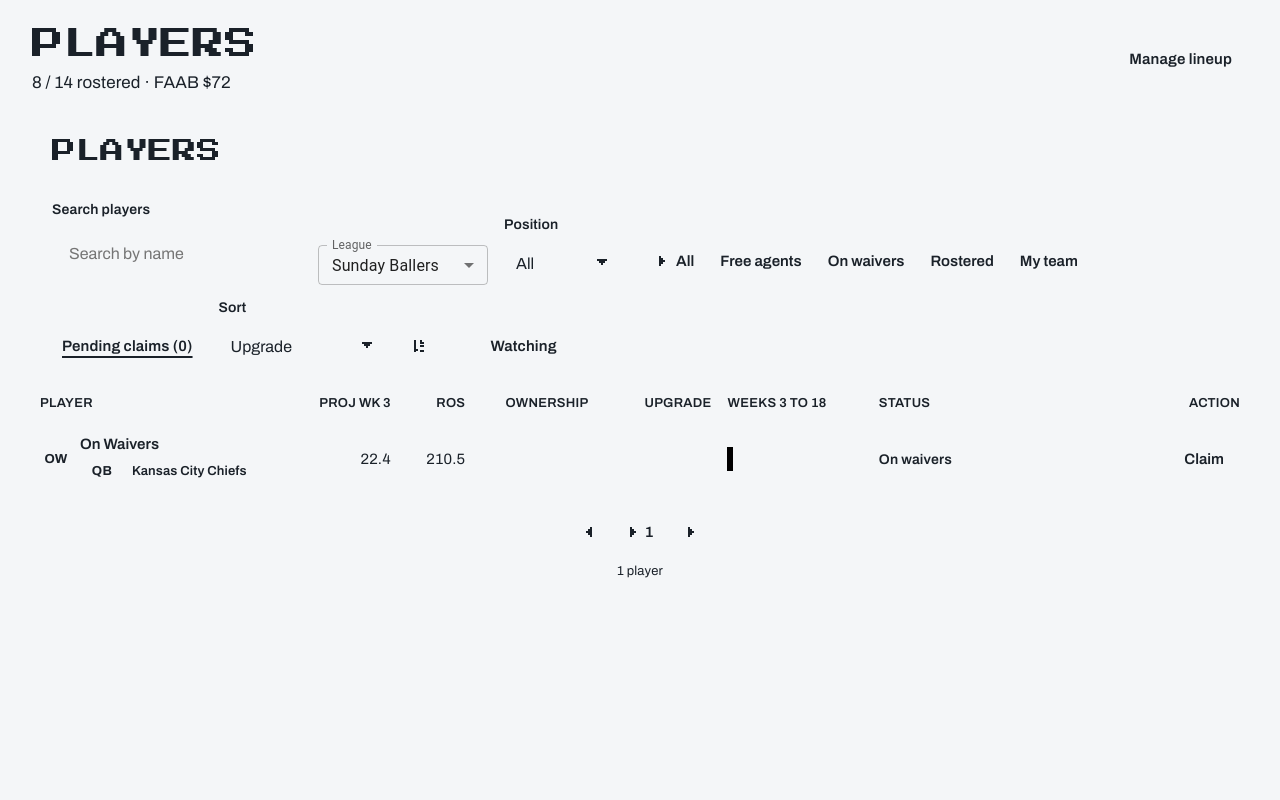
Test: FAAB league: the row's Claim opens the Decision card claim action and does not post a claim (#1576)
Click the button "Claim" at x=1204, y=459, box [1168,437,1240,481]
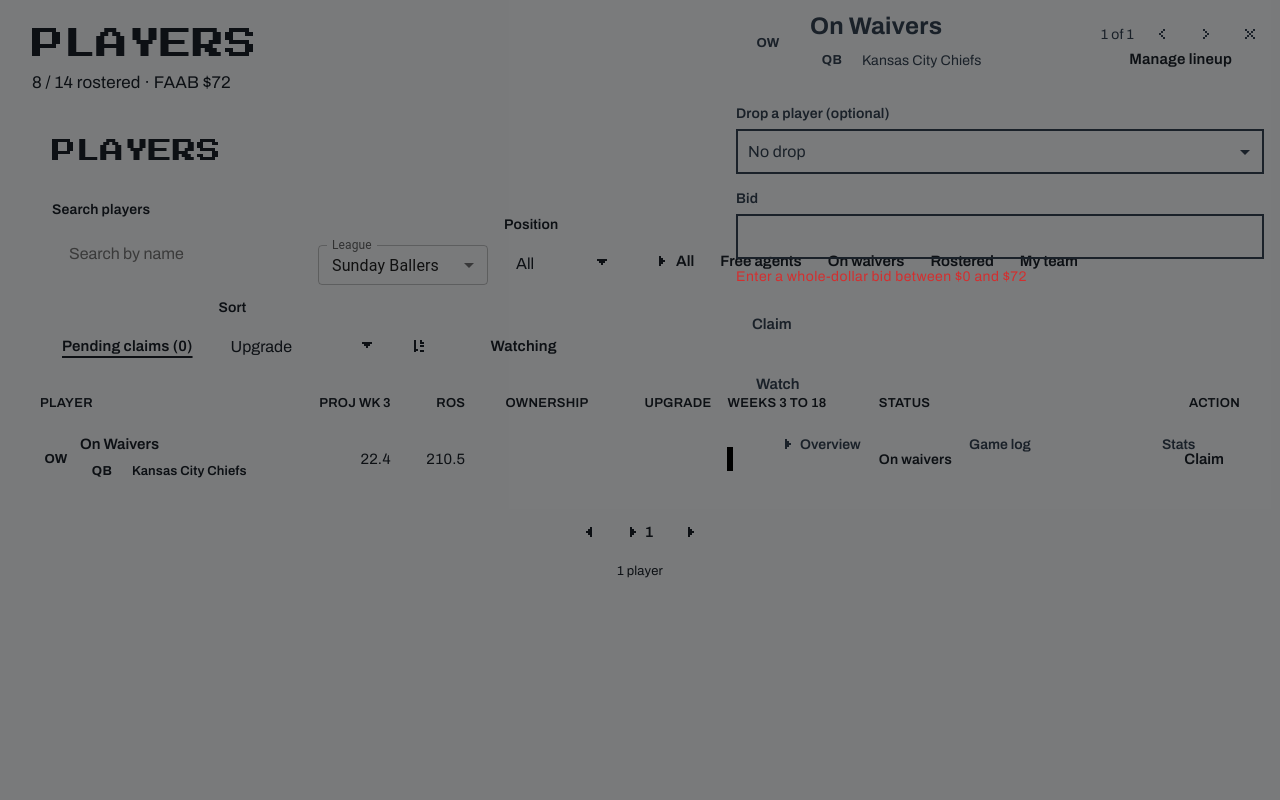
Check: the element with test id "claim-player-action" is shown, box [720,103,1279,362]
